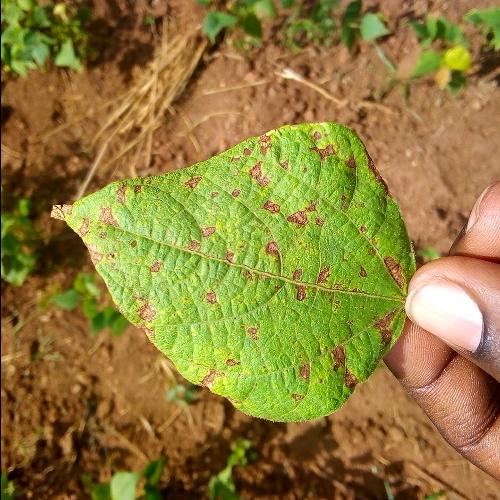hawar: (144, 156, 390, 386)
